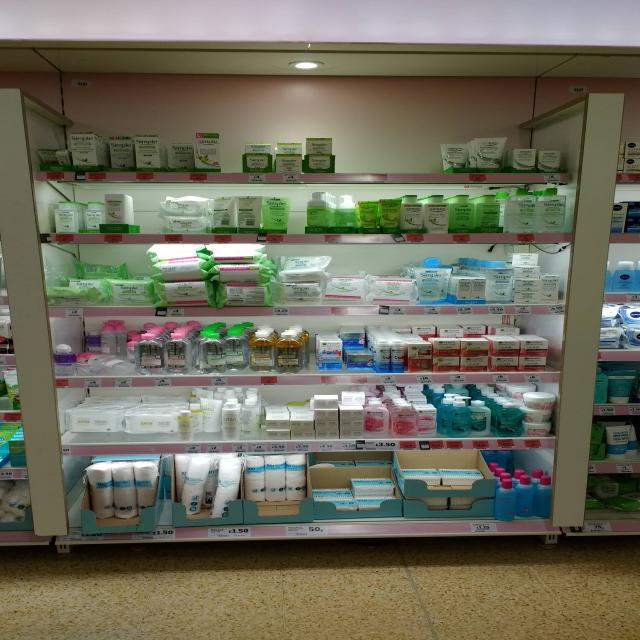empty: (333, 125, 440, 181), (134, 195, 164, 237), (218, 134, 246, 176)
